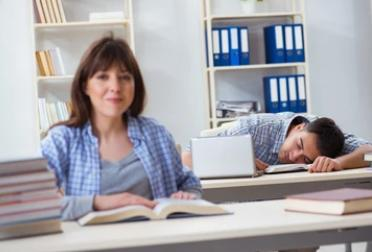sleep: (189, 108, 372, 175)
study: (39, 36, 200, 221)
